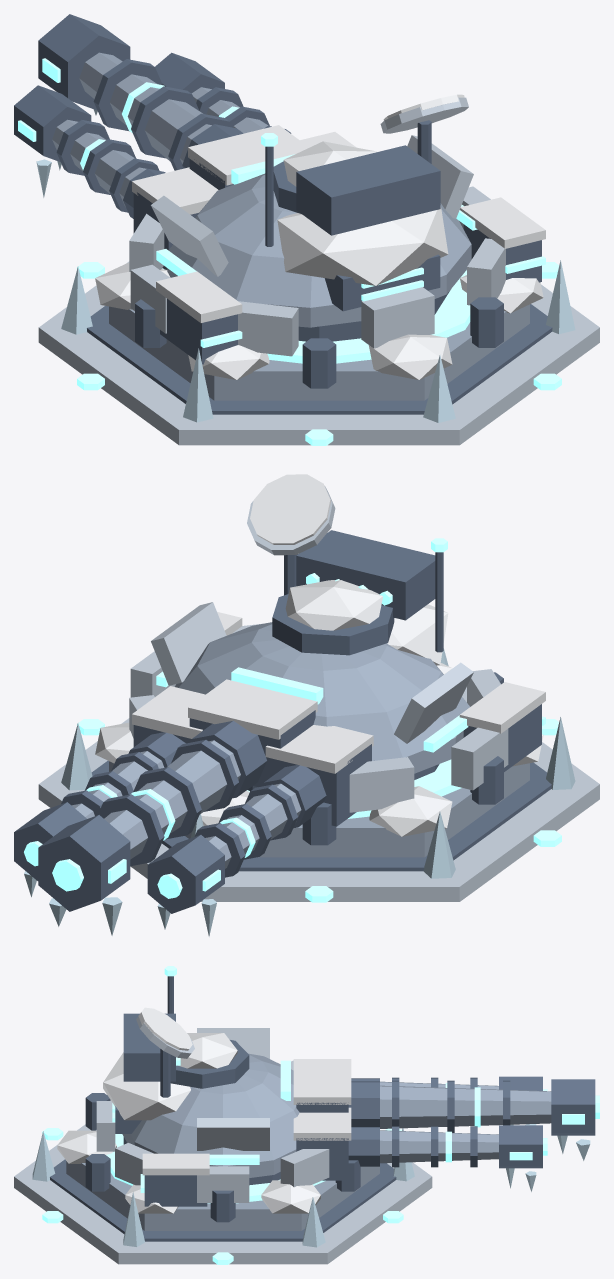
Rendered from turret_lvl6.fbx.
3 views of the same model, one above another, from view 1: azimuth 30°, elevation 25°; view 2: azimuth 150°, elevation 25°; view 3: azimuth 270°, elevation 25° (orthographic). The views are drawn at different scales.
Visible parts, largest first — view 1: BaseTier_70, Dome_05, Base_01, MissileRack_87, SnowBlanket_92, BaseSkirt_02, MuzzleBrake_43, BarrelTube_38, SkirtPlate_85, SnowCap_36, MuzzleBrake_15, SkirtPlate_84 (+42 smaller); view 2: Dome_05, BaseTier_70, MissileRack_87, Base_01, BaseSkirt_02, MuzzleBrake_43, SnowCap_36, BarrelTube_38, SnowDish_108, SnowCupola_105, MuzzleBrake_15, Cupola_69 (+38 smaller); view 3: BaseTier_70, Dome_05, Base_01, BarrelTube_38, BaseSkirt_02, SnowBlanket_92, BarrelTube_24, SnowCap_36, ArmorPlate_56, MuzzleBrake_43, MissileRack_87, MuzzleBrake_29 (+33 smaller).
Part boxes in pixels (box(x1,y1,x2,y2)): BaseTier_70: box(38, 261, 599, 445); Dome_05: box(167, 173, 471, 327); Base_01: box(109, 268, 529, 400); MissileRack_87: box(296, 145, 440, 235); SnowBlanket_92: box(277, 205, 448, 285); BaseSkirt_02: box(87, 304, 552, 414); MuzzleBrake_43: box(38, 14, 130, 110); BarrelTube_38: box(79, 52, 211, 163); SkirtPlate_85: box(361, 287, 434, 348); SnowCap_36: box(188, 125, 309, 185); MuzzleBrake_15: box(14, 85, 91, 161); SkirtPlate_84: box(238, 301, 298, 356); Dome_05: box(175, 622, 469, 773); BaseTier_70: box(38, 687, 599, 901); MissileRack_87: box(296, 530, 435, 620); Base_01: box(109, 761, 529, 857); BaseSkirt_02: box(91, 761, 551, 871); MuzzleBrake_43: box(38, 815, 130, 911); SnowCap_36: box(188, 679, 317, 739); BarrelTube_38: box(104, 740, 240, 859); SnowDish_108: box(250, 474, 331, 544); SnowCupola_105: box(285, 580, 382, 630); MuzzleBrake_15: box(147, 835, 224, 913); Cupola_69: box(272, 594, 394, 655); BaseTier_70: box(14, 1124, 432, 1264); Dome_05: box(122, 1053, 299, 1177); Base_01: box(66, 1130, 379, 1230); BarrelTube_38: box(380, 1085, 551, 1128); BaseSkirt_02: box(50, 1159, 396, 1241); SnowBlanket_92: box(103, 1052, 190, 1120); BarrelTube_24: box(380, 1130, 498, 1163); SnowCap_36: box(293, 1064, 351, 1104); ArmorPlate_56: box(197, 1118, 269, 1150); MuzzleBrake_43: box(551, 1079, 595, 1135); MissileRack_87: box(123, 1013, 175, 1081); MuzzleBrake_29: box(499, 1125, 542, 1168).
Size of the model in its own units: 551 by 296 by 785.
